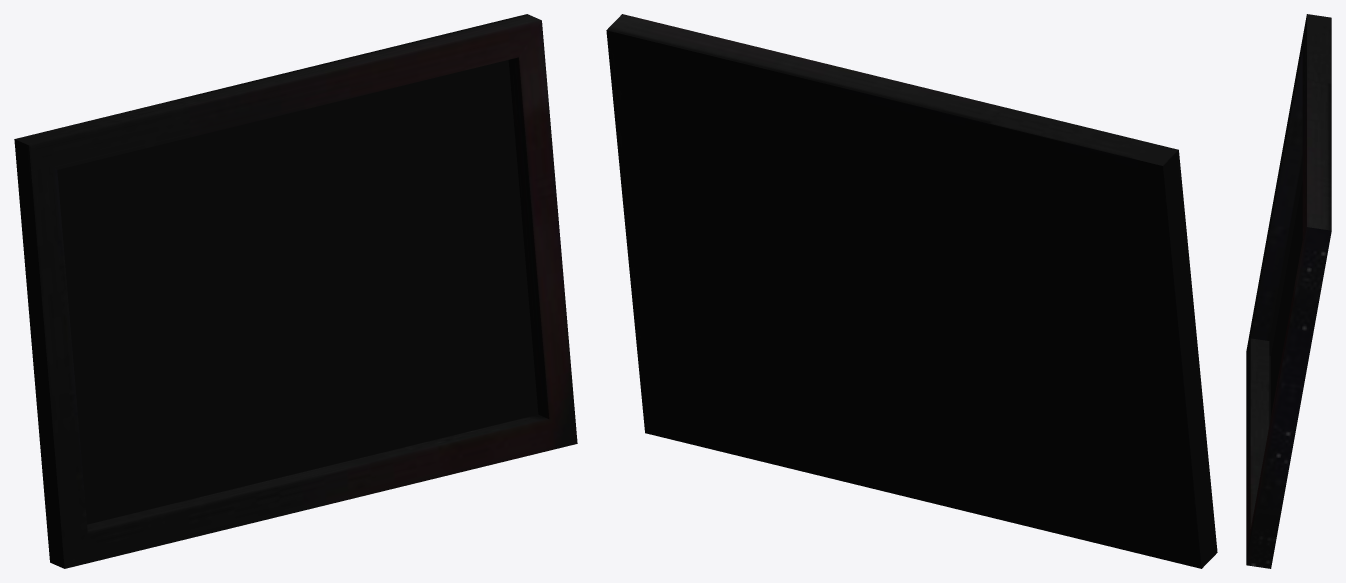
Rendered from rose_rouge_frame.glb.
3 views of the same model, side by side, from view 1: azimuth 30°, elevation 25°; view 2: azimuth 150°, elevation 25°; view 3: azimuth 270°, elevation 25° (orthographic). The views are drawn at different scales.
Parts seen in each view (by area): view 1: rose_rouge_frame; view 2: rose_rouge_frame; view 3: rose_rouge_frame.
Boxes of the visible parts, x1,y1,x2,y2 form: rose_rouge_frame: [14, 14, 577, 568]; rose_rouge_frame: [606, 14, 1217, 568]; rose_rouge_frame: [1246, 14, 1331, 568].
Size of the model in its own units: 8 by 5.99 by 1.36.
1 material, 1 textured.
